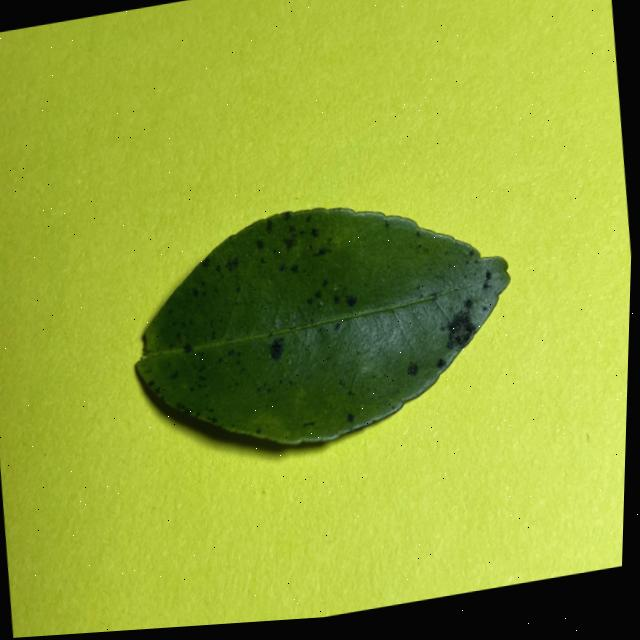sooty_mold: (136, 208, 509, 443)
